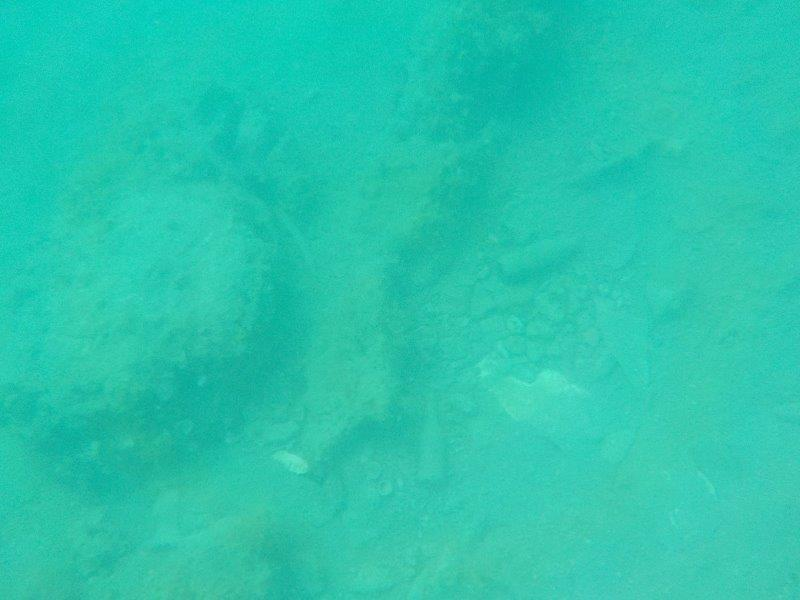bottle: (490, 224, 590, 286), (411, 384, 461, 492)
